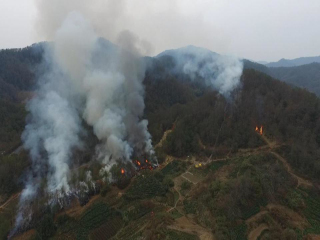smoke: (18, 3, 159, 214), (177, 38, 247, 104)
